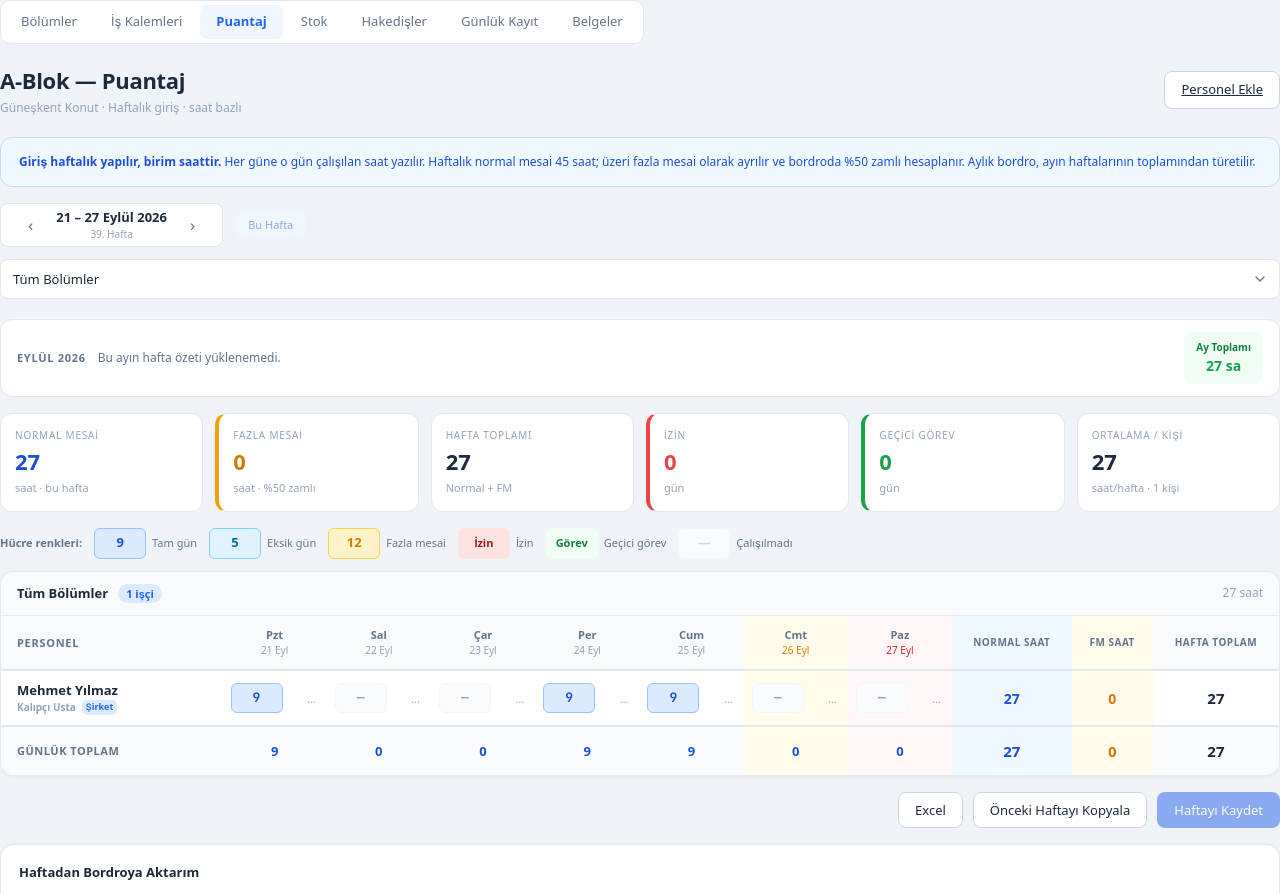
SiteTimesheetView · (e) kilit 409'u (§3.14 P4) › locked_days taşımayan 409 kişi-gün çakışması olarak kalır; taslak hiç atılmaz
This screenshot has width=1280, height=894.
Replace the text in the field named "Mehmet Yılmaz · 24 Eyl saati" with "10" at (569, 698), box [543,683,595,713]
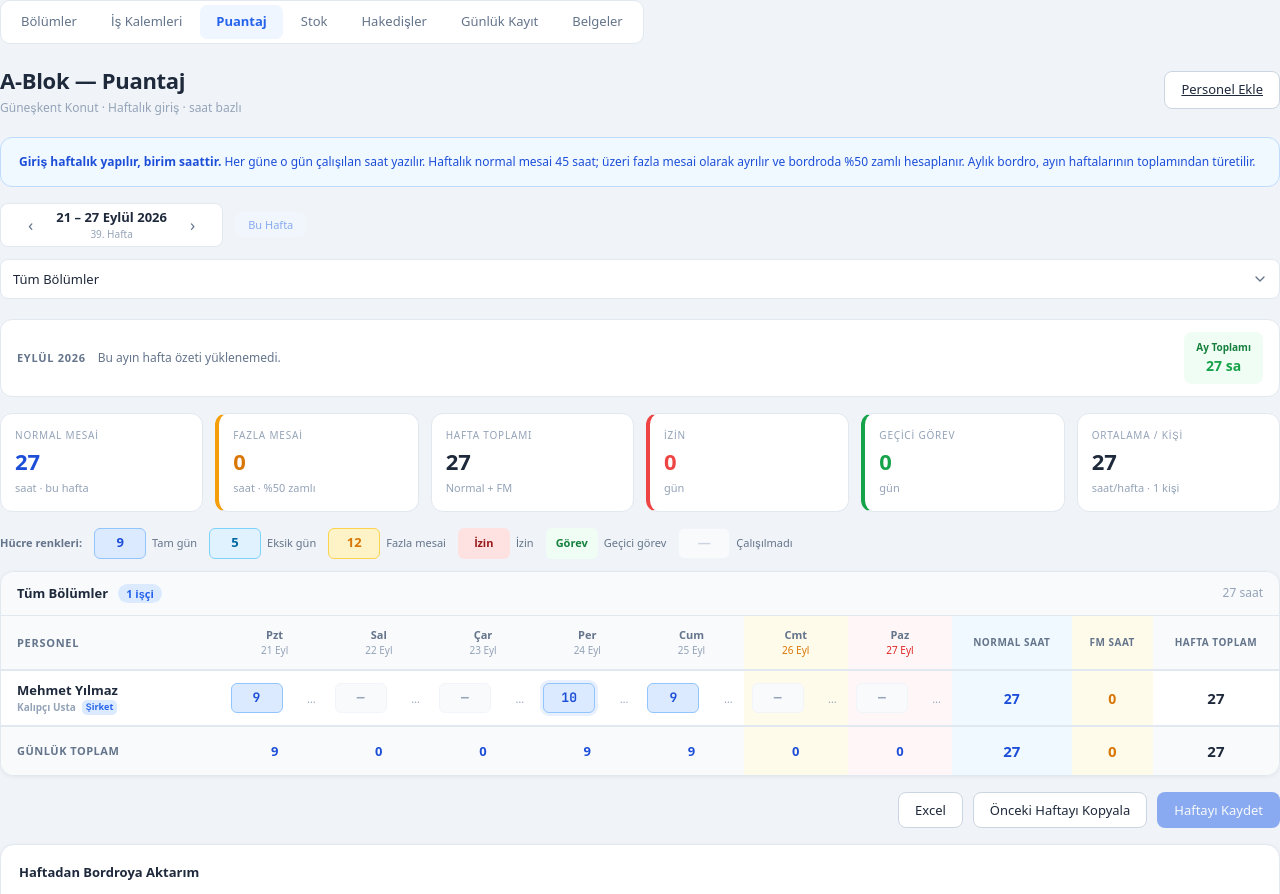
Press Tab
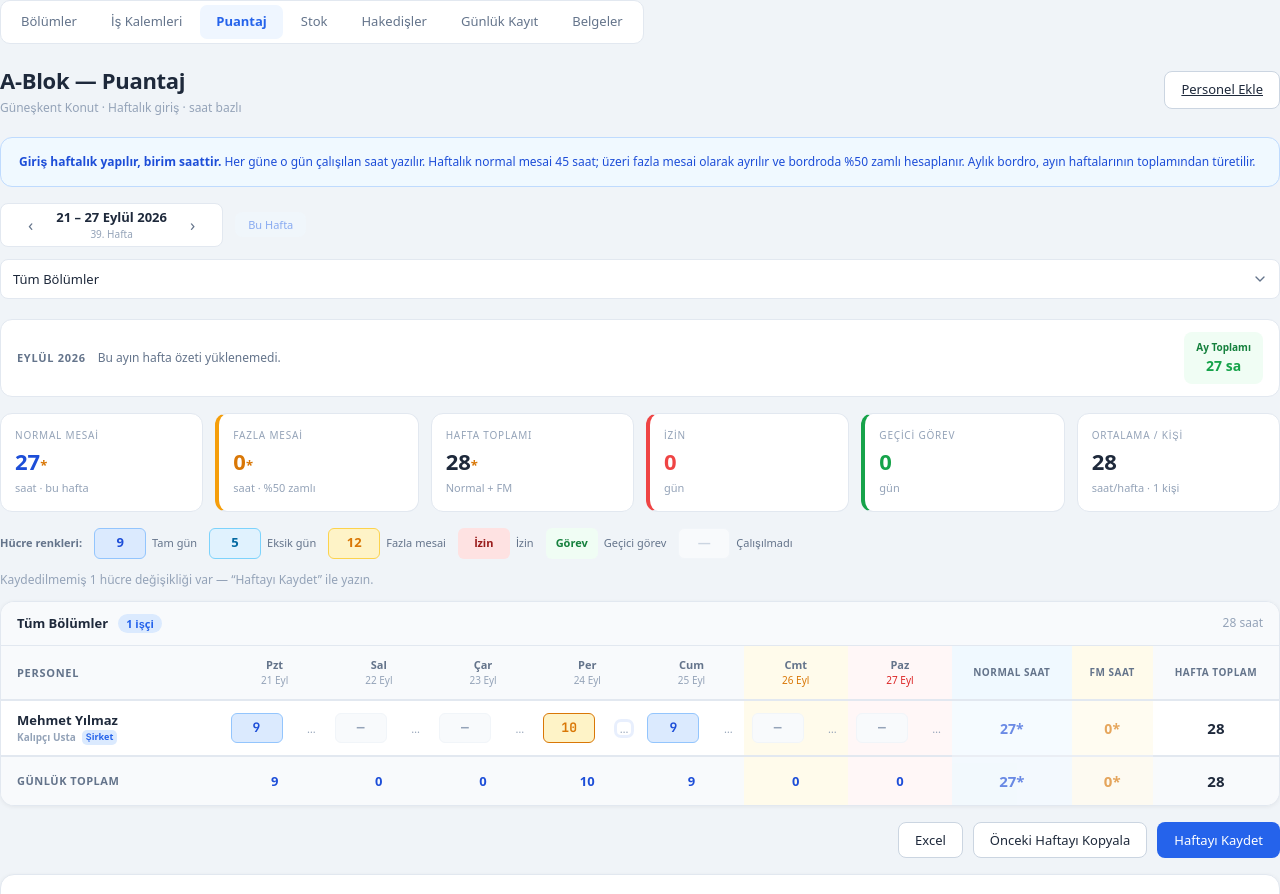
Click the button "Haftayı Kaydet" at (1219, 840), box [1157,822,1279,858]
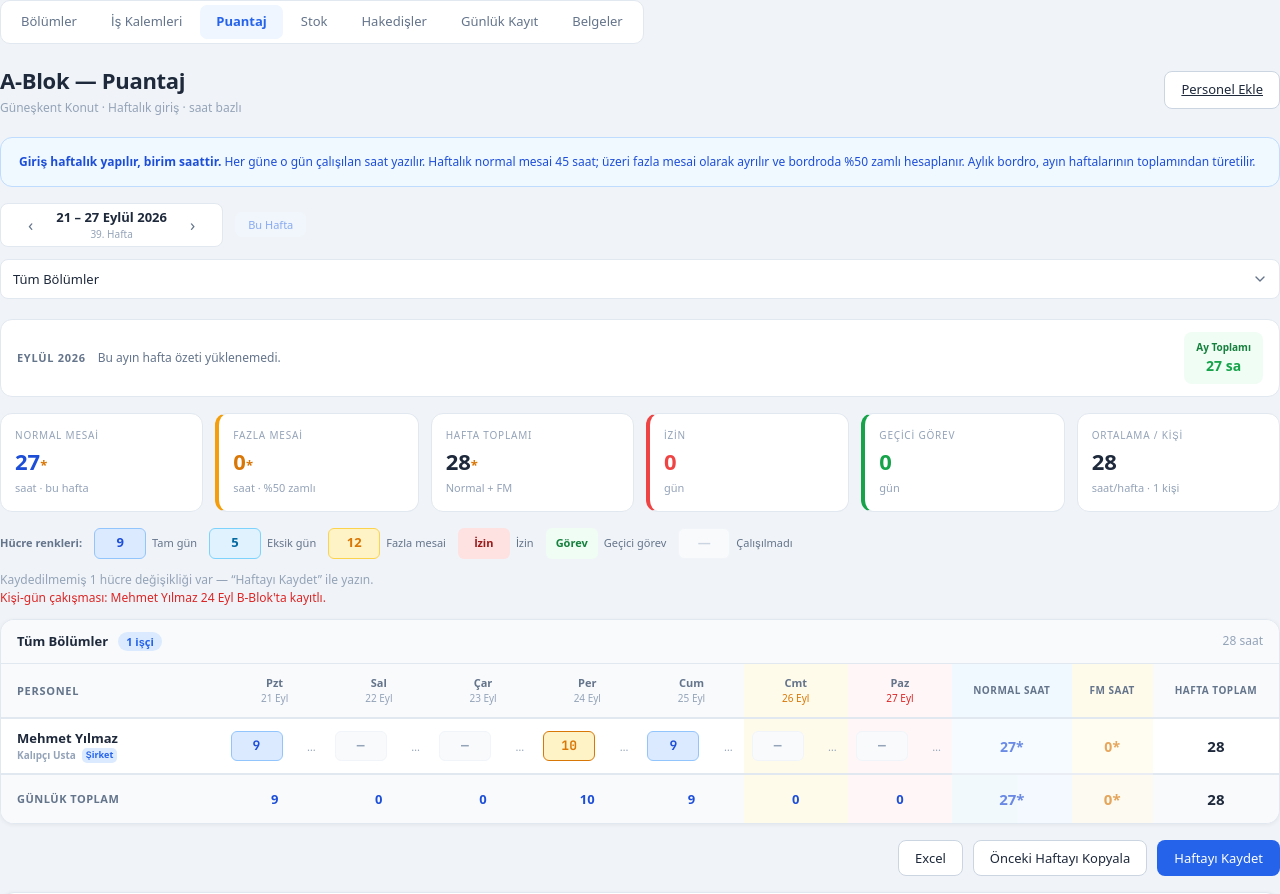
Check: the text "Kişi-gün çakışması: Mehmet Yılmaz 24 Eyl B-Blok'ta kayıtlı." is shown, box [0,588,326,606]
